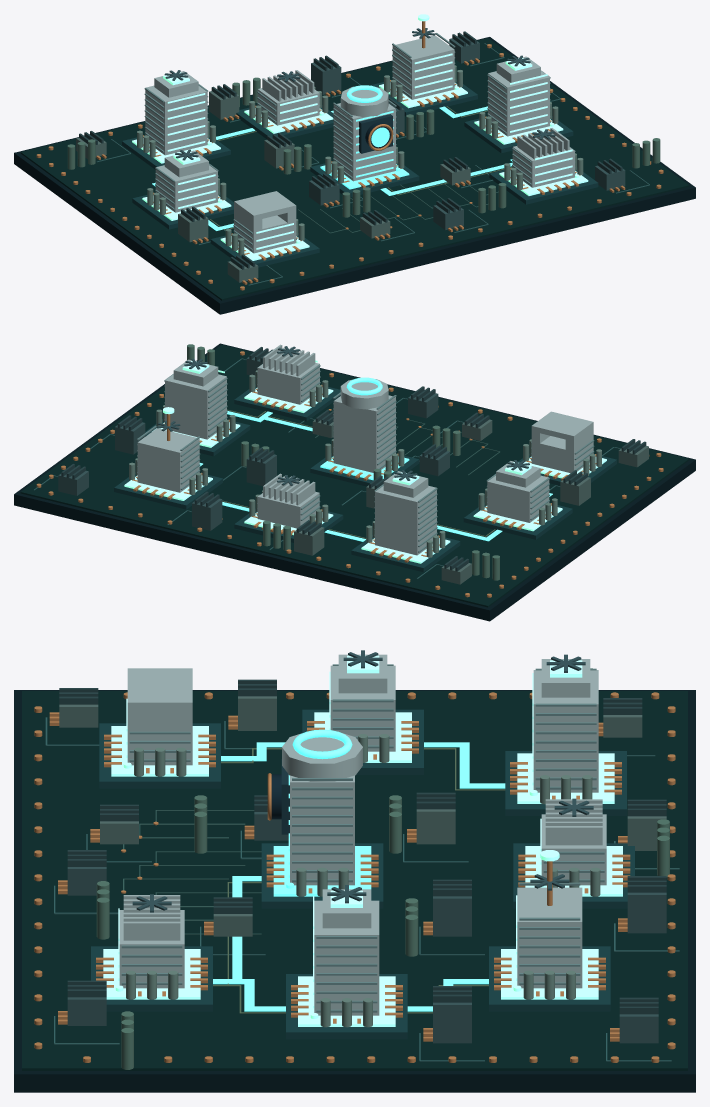
File: circuit-city.glb
3 renders of one model, top to bottom at view 1: azimuth 30°, elevation 25°; view 2: azimuth 150°, elevation 25°; view 3: azimuth 270°, elevation 25°, orthographic. The views are drawn at different scales.
Visible parts, largest first — view 1: TECHCARE_CIRCUIT_CITY, district-8, district-3, district-6, district-5, district-1, district-7, district-2, district-4; view 2: TECHCARE_CIRCUIT_CITY, district-8, district-3, district-5, district-6, district-2, district-7, district-1, district-4; view 3: TECHCARE_CIRCUIT_CITY, district-8, district-6, district-3, district-5, district-1, district-7, district-2, district-4.
Boxes of the visible parts, x1,y1,x2,y2 form: TECHCARE_CIRCUIT_CITY: (14, 31, 695, 314); district-8: (310, 85, 419, 197); district-3: (122, 71, 230, 169); district-6: (464, 56, 573, 153); district-5: (369, 14, 477, 116); district-1: (210, 191, 319, 267); district-7: (489, 128, 598, 204); district-2: (132, 150, 233, 229); district-4: (236, 70, 333, 138); TECHCARE_CIRCUIT_CITY: (14, 343, 695, 621); district-8: (310, 377, 419, 486); district-3: (351, 471, 460, 572); district-5: (114, 407, 222, 509); district-6: (145, 359, 250, 456); district-2: (463, 461, 572, 539); district-7: (234, 344, 340, 421); district-1: (518, 411, 616, 485); district-4: (234, 473, 343, 542); TECHCARE_CIRCUIT_CITY: (14, 668, 695, 1092); district-8: (261, 729, 383, 908); district-6: (286, 889, 407, 1039); district-3: (505, 659, 626, 815); district-5: (489, 850, 610, 1011); district-1: (99, 668, 220, 788); district-7: (91, 895, 212, 1011); district-2: (302, 654, 423, 774); district-4: (513, 799, 634, 908).
Bounding box in the file's own units: 112 × 21.63 × 84.
